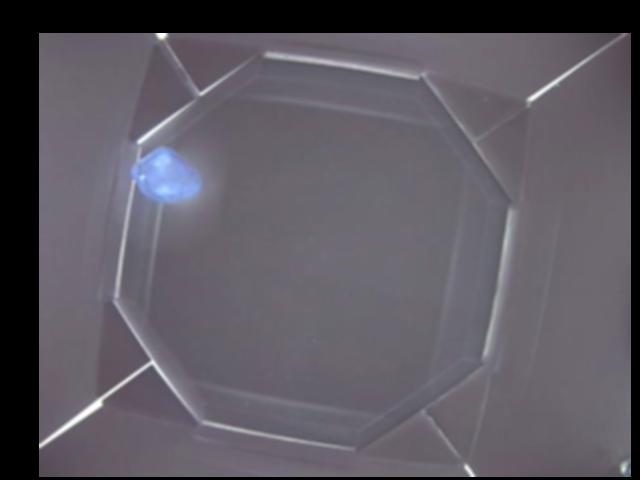Pebble: (127, 148, 200, 204)
